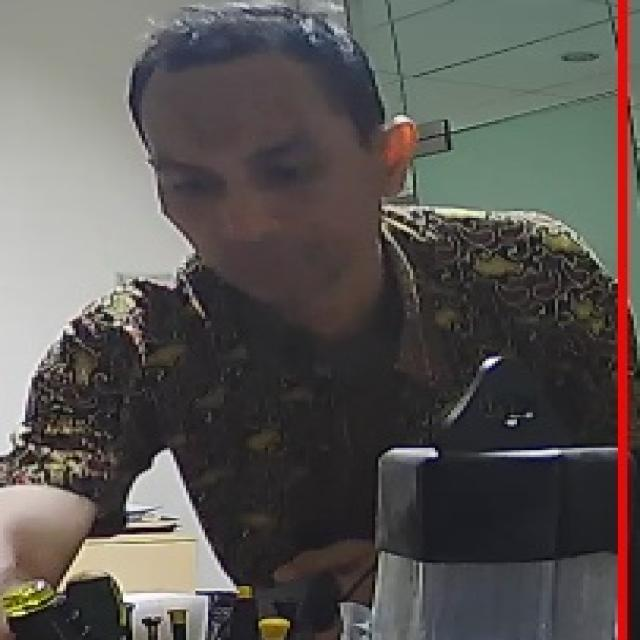no_helmet: (34, 5, 520, 328)
